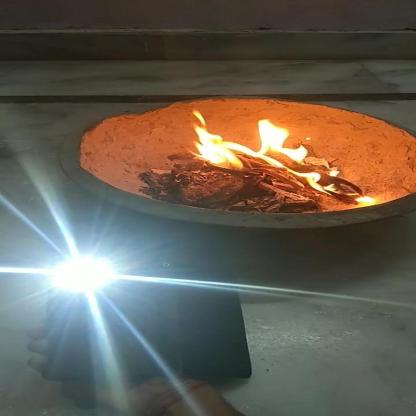fire: (175, 108, 378, 206)
